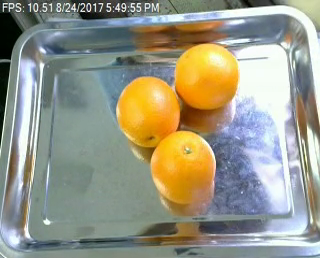Orange: (150, 131, 216, 203), (115, 75, 180, 148), (173, 43, 238, 110)
